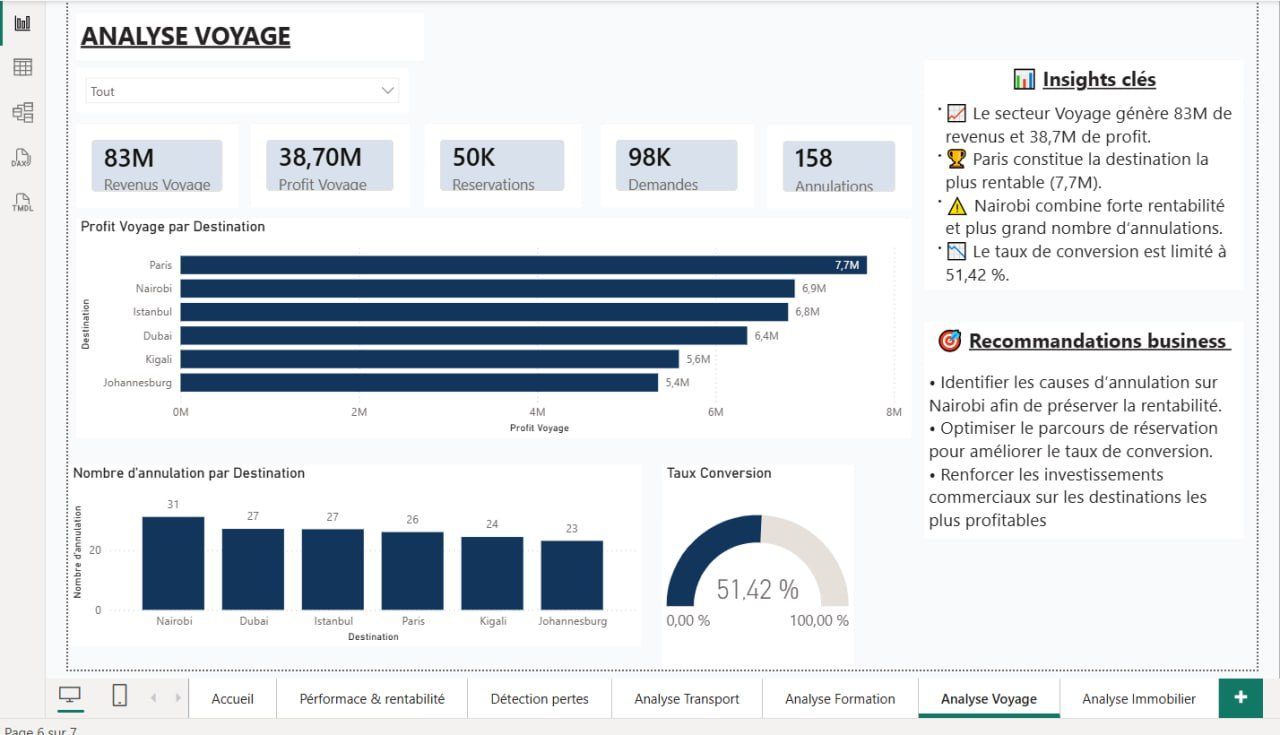

Layout of this report page (visuals, bound fields, positions):
{"tool":"powerbi","page":{"name":"Analyse Voyage","canvas":[1280,720],"ordinal":5},"visuals":[{"type":"cardVisual","fields":{"Data":["Voyage.Revenus Voyage"]},"box":[8.8,132.5,175,90],"z":0},{"type":"gauge","fields":{"Y":["Voyage.Taux Conversion"]},"box":[639.4,499.5,206.3,220.8],"z":1000},{"type":"cardVisual","fields":{"Data":["Voyage.Annulations"]},"box":[752.8,133.9,155.6,89.3],"z":2000},{"type":"cardVisual","fields":{"Data":["Voyage.Demandes"]},"box":[573.1,132.7,165.3,89.3],"z":3000},{"type":"cardVisual","fields":{"Data":["Voyage.Reservations"]},"box":[383.6,132.7,168.9,89.3],"z":4000},{"type":"cardVisual","fields":{"Data":["Voyage.Profit Voyage"]},"box":[196.6,132.7,171.3,89.3],"z":5000},{"type":"textbox","box":[8.4,13.3,375.2,50.7],"z":6000},{"type":"barChart","fields":{"Category":["Voyage.Destination"],"Y":["Voyage.Profit Voyage"]},"box":[8.4,234,900,236.5],"z":7000},{"type":"columnChart","fields":{"Category":["Voyage.Destination"],"Y":["Sum(Voyage.Taux_Annulation)"]},"box":[0,500,617.5,196.2],"z":8000},{"type":"slicer","fields":{"Values":["Calendar.Année","Calendar.Mois","Voyage.Destination","Voyage.Type_Voyage"]},"box":[8.4,72.4,358.3,48.3],"z":9000},{"type":"textbox","box":[921.7,63.9,343.8,38.6],"z":10000},{"type":"textbox","box":[921.7,102.5,343.8,208.7],"z":11000},{"type":"textbox","box":[921.7,345,343.8,47.1],"z":12000},{"type":"textbox","box":[921.7,392.1,343.8,187],"z":13000}]}

Visuals, with their boxes on the page's 1280x720 design canvas (x1, y1, x2, y2). These are canvas units, not pixel positions in the 1280x735 screenshot, which may show the page scaled, cropped or inside an application window:
cardVisual - Voyage.Revenus Voyage: [left=9, top=132, right=184, bottom=222]
gauge - Voyage.Taux Conversion: [left=639, top=500, right=846, bottom=720]
cardVisual - Voyage.Annulations: [left=753, top=134, right=908, bottom=223]
cardVisual - Voyage.Demandes: [left=573, top=133, right=738, bottom=222]
cardVisual - Voyage.Reservations: [left=384, top=133, right=552, bottom=222]
cardVisual - Voyage.Profit Voyage: [left=197, top=133, right=368, bottom=222]
textbox: [left=8, top=13, right=384, bottom=64]
barChart - Voyage.Destination x Voyage.Profit Voyage: [left=8, top=234, right=908, bottom=470]
columnChart - Voyage.Destination x Sum(Voyage.Taux_Annulation): [left=0, top=500, right=618, bottom=696]
slicer - Calendar.Année x Calendar.Mois: [left=8, top=72, right=367, bottom=121]
textbox: [left=922, top=64, right=1266, bottom=102]
textbox: [left=922, top=102, right=1266, bottom=311]
textbox: [left=922, top=345, right=1266, bottom=392]
textbox: [left=922, top=392, right=1266, bottom=579]
